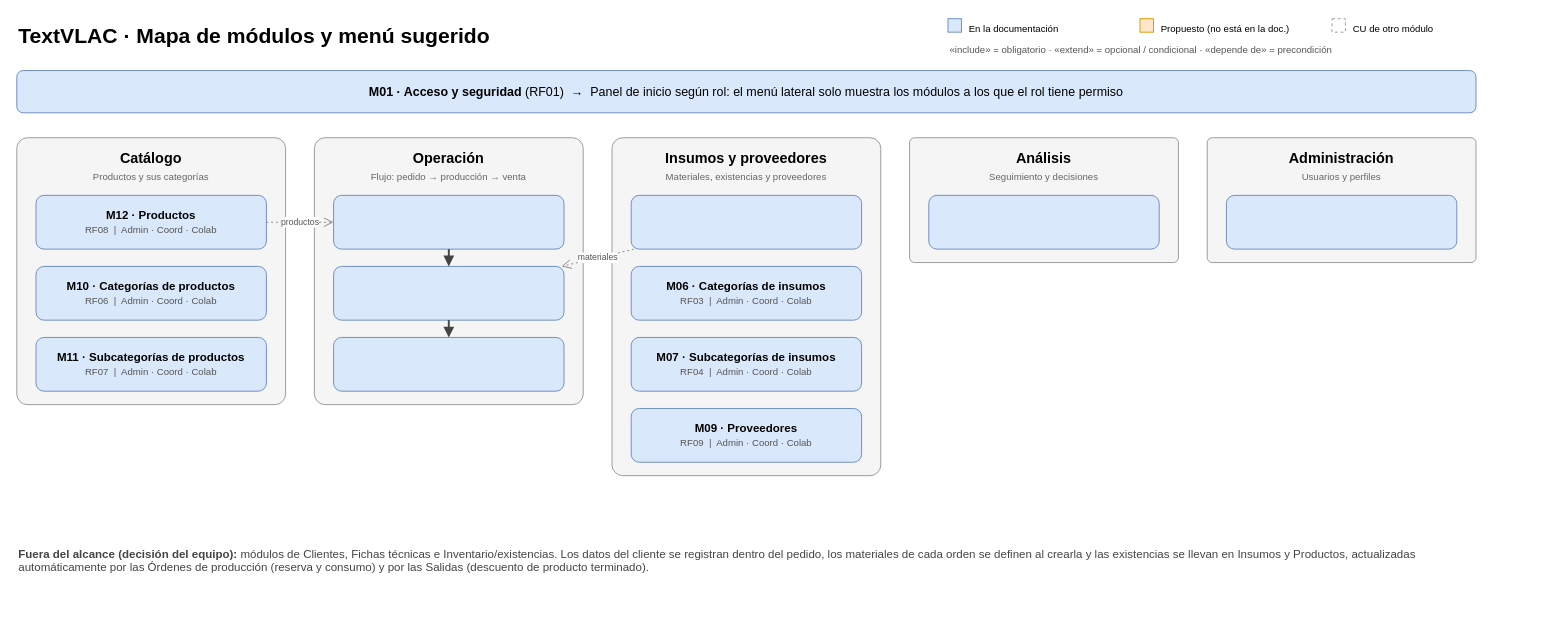
Image size: 1560x624. Some labels were removed from this diagram. Each missing label, with the centre of its shape:
M02 · Usuarios RF02 | Admin · Coord · Colab: (1341,221)
M03 · Pedidos RF10 | Admin · Coord · Colab: (448,221)
M04 · Órdenes de producción RF pendiente en la ERS | Admin · Coord · Colab: (448,292)
M05 · Salidas (ventas) RF11 | Admin · Coord · Colab: (448,363)
M08 · Insumos RF05 | Admin · Coord · Colab: (746,221)
M13 · Reportes e indicadores RF12 | Admin · Coord: (1043,221)
